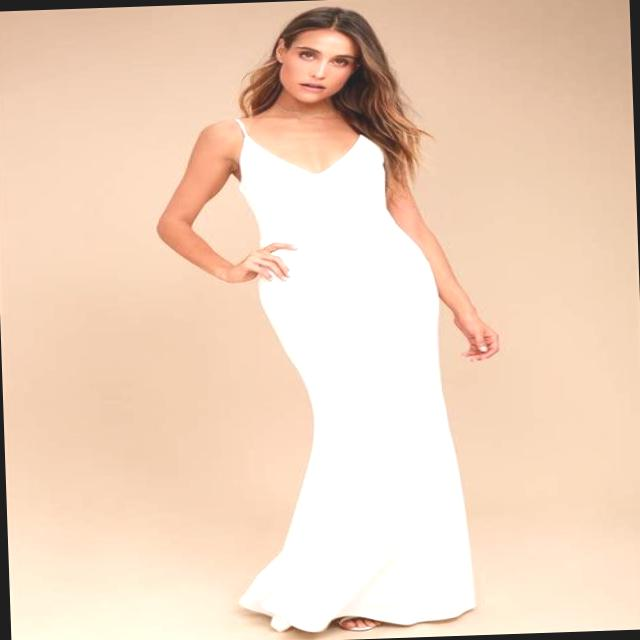dress: (223, 108, 480, 638)
